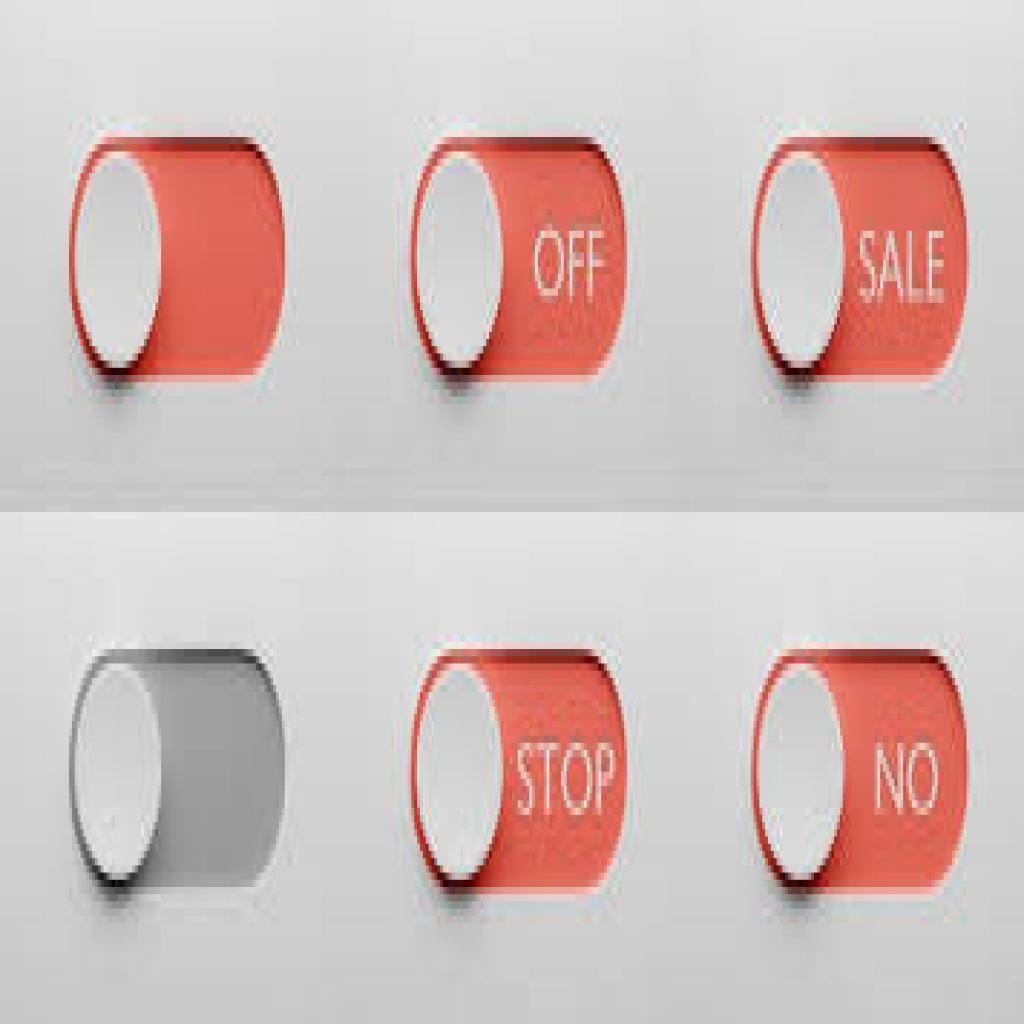switch: (69, 648, 287, 894), (62, 138, 286, 376), (413, 647, 629, 892), (753, 650, 969, 895), (753, 139, 969, 380), (409, 139, 626, 377)
